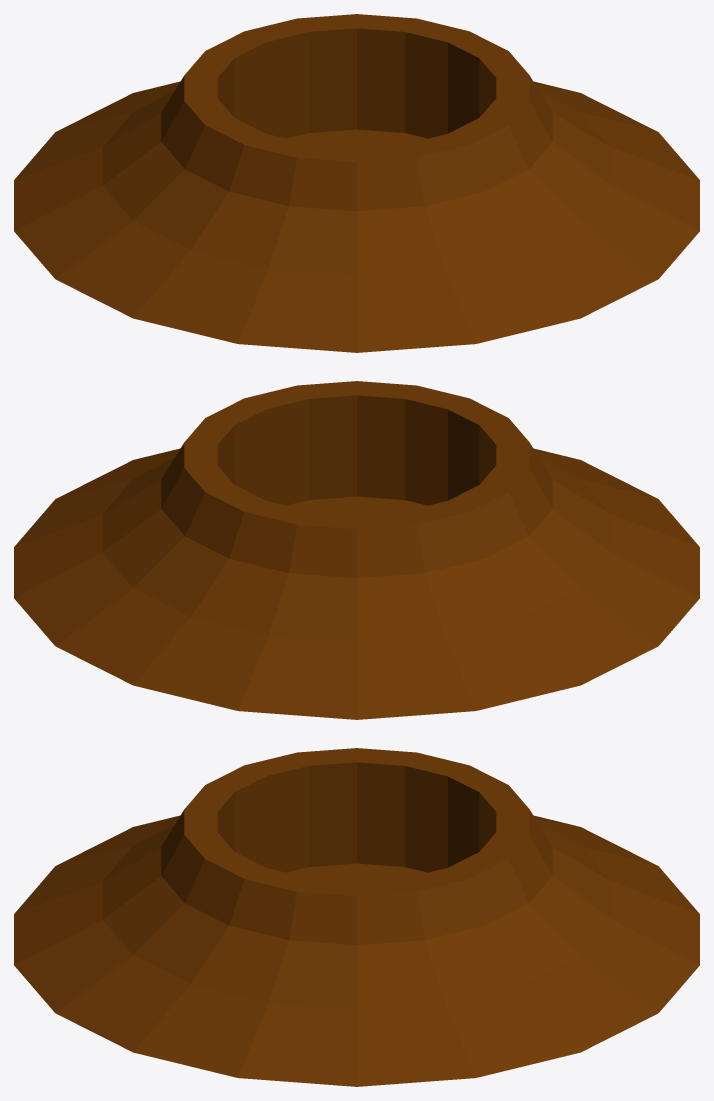
The model's file is newHole.dae.
3 renders of one model, top to bottom at view 1: azimuth 30°, elevation 25°; view 2: azimuth 150°, elevation 25°; view 3: azimuth 270°, elevation 25°, orthographic.
Visible parts, largest first — view 1: Cylinder00; view 2: Cylinder00; view 3: Cylinder00.
Boxes of the visible parts, bbox=[...] form: Cylinder00: bbox=[14, 14, 699, 352]; Cylinder00: bbox=[14, 381, 699, 719]; Cylinder00: bbox=[14, 748, 699, 1086].
Size of the model in its own units: 82.32 by 81.07 by 15.34.
